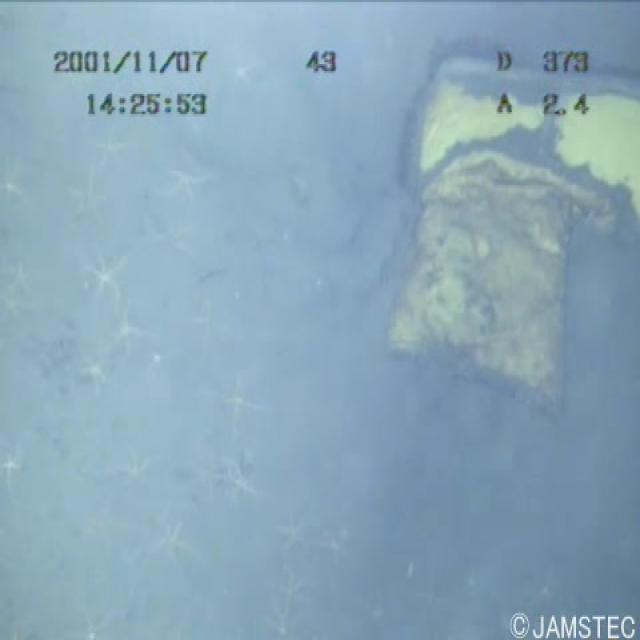plastic: (376, 27, 639, 394)
